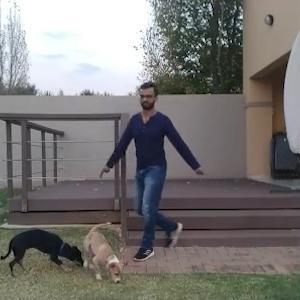land: (106, 88, 214, 265)
